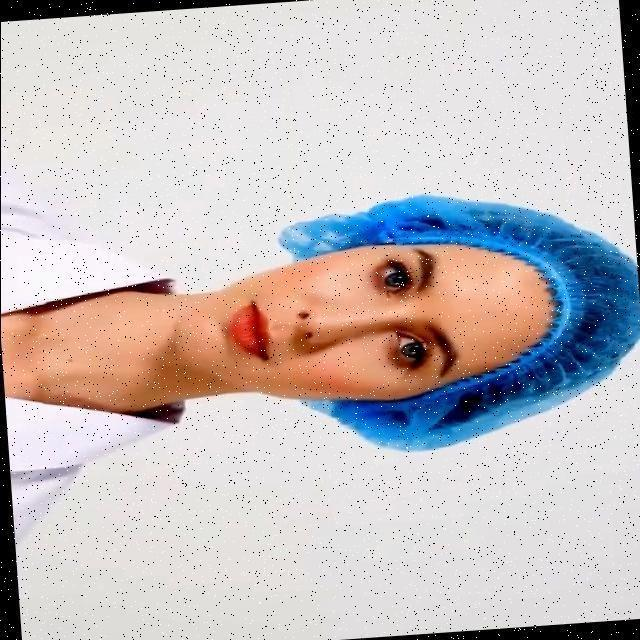gloves: (513, 212, 640, 394)
no_hairnet: (223, 288, 365, 388)
